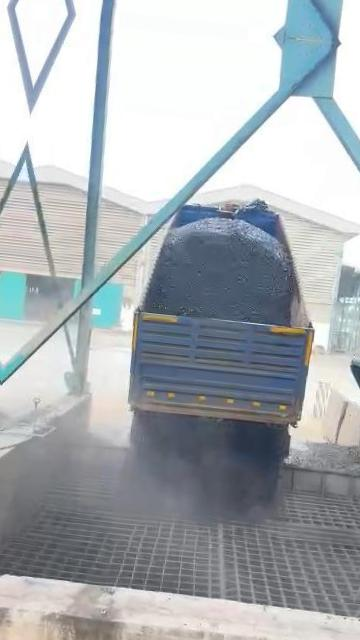gravel: (144, 216, 293, 325), (131, 413, 285, 509), (286, 440, 360, 477)
